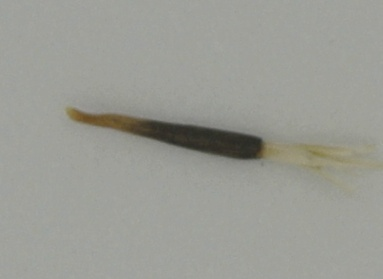เมล็ดงอกแตก: (61, 100, 383, 201)
